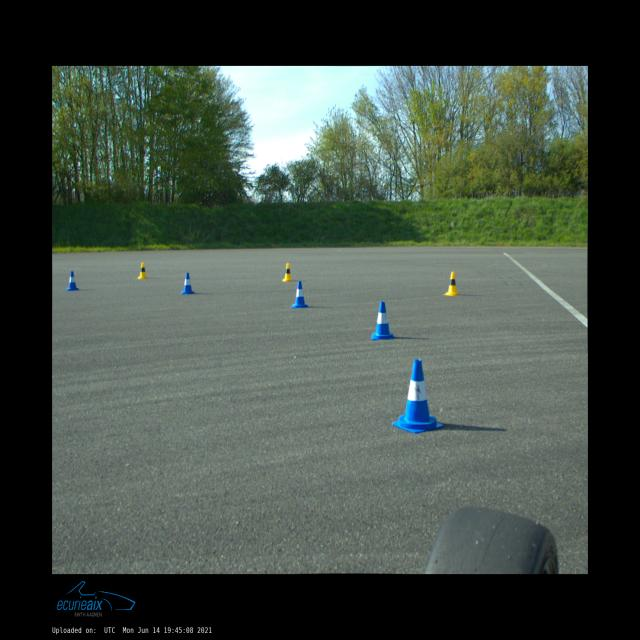blue_cone: (393, 359, 443, 433), (372, 301, 393, 340), (291, 281, 310, 308), (180, 273, 197, 294), (67, 271, 79, 291)
yellow_cone: (443, 272, 459, 296), (282, 263, 294, 281), (138, 262, 148, 279)
